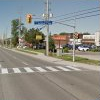crosswalk: (0, 65, 81, 74)
